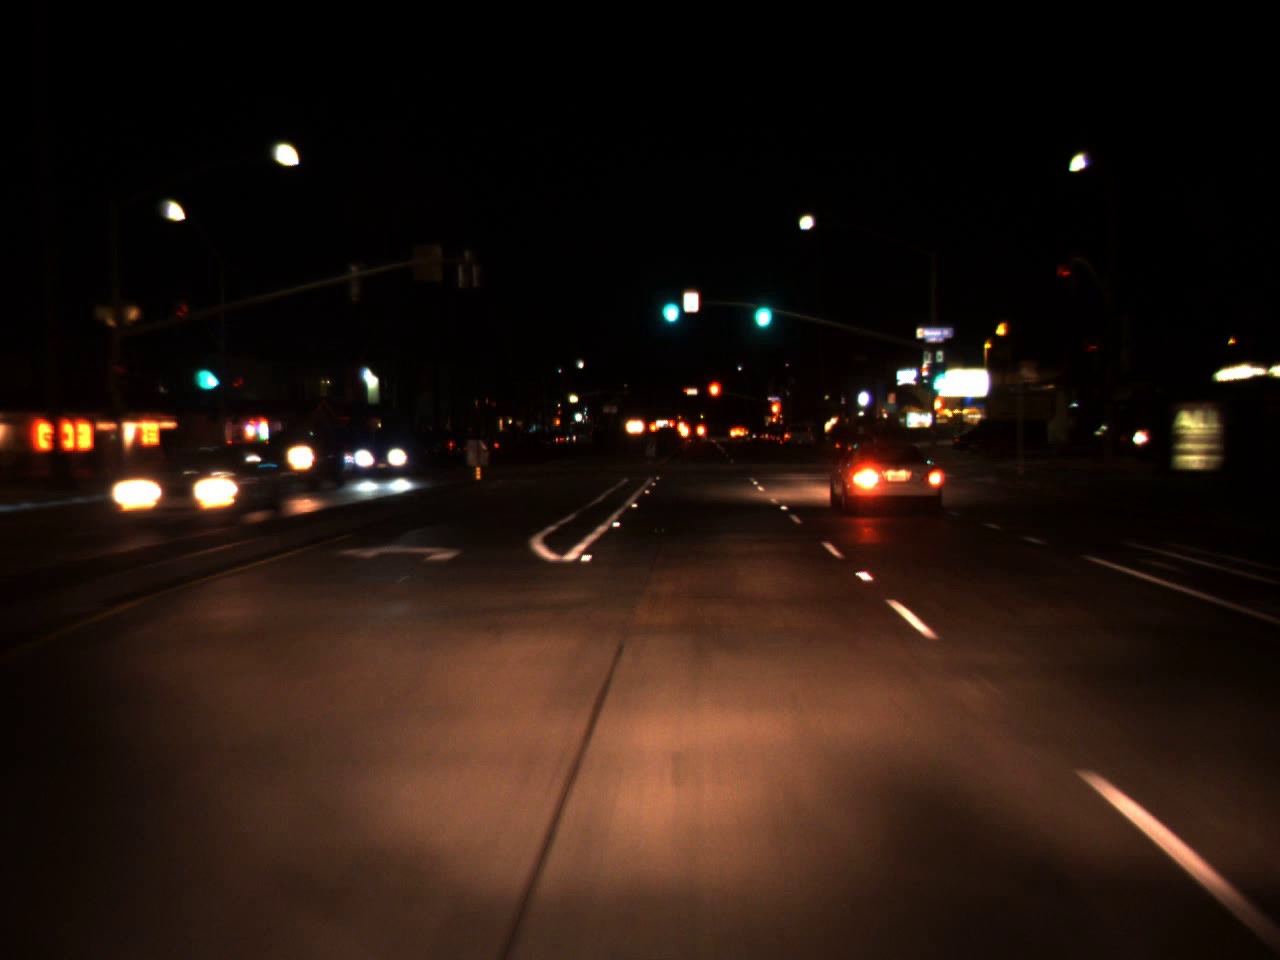go: (748, 281, 775, 335), (193, 348, 218, 396), (657, 280, 682, 328), (930, 360, 948, 393)
stop: (706, 379, 722, 414), (770, 398, 782, 435)
